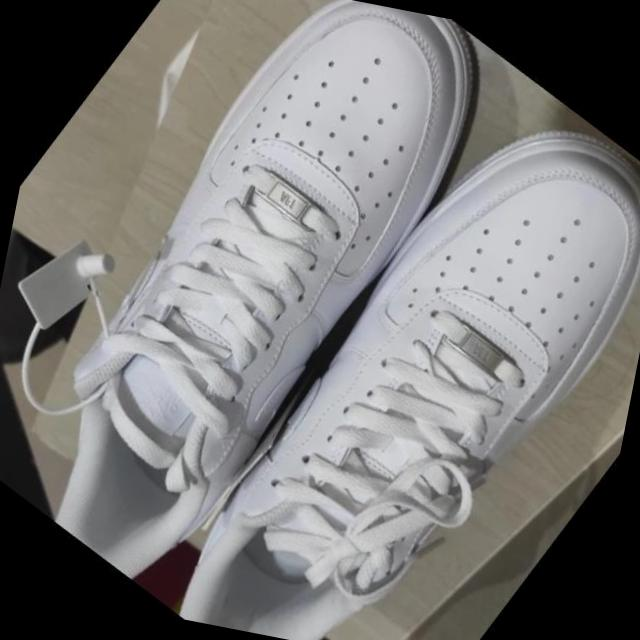nike_fake_airforce: (0, 0, 548, 640), (138, 21, 640, 640)
